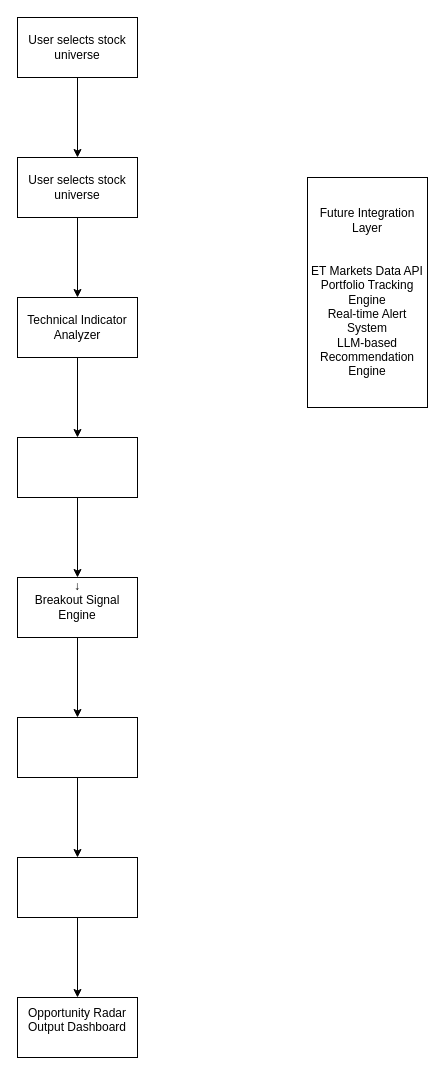
Some shapes in this 445 by 1081 pixel diagram are drawn without their labels. Here are the shapes that lost their labels. From the top down, the box of each, then its label:
(16, 436, 138, 498): Support & Resistance Detector
(16, 716, 138, 778): Volume Spike Analyzer
(16, 856, 138, 918): AI Explaination Engine
